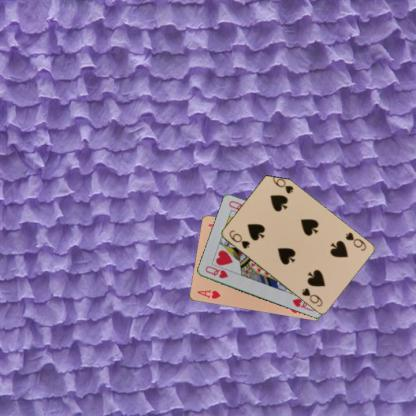6s: (226, 228, 251, 250), (342, 230, 367, 252)
Ah: (194, 287, 222, 301)
Qh: (203, 263, 230, 280)
